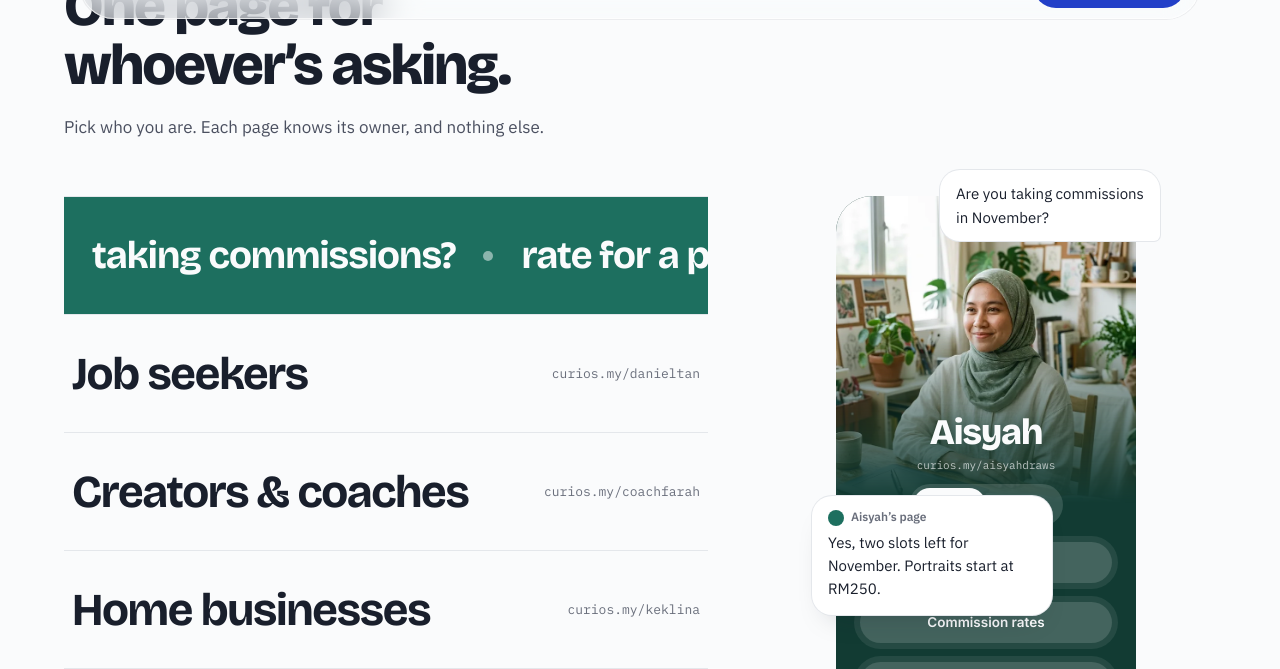
Test: who it is for › shows the page of the kind of owner pointed at
This screenshot has width=1280, height=669.
(page scrolled)
Hover over the button "Job seekers" at (190, 374), box [64,314,708,432]
(page scrolled)
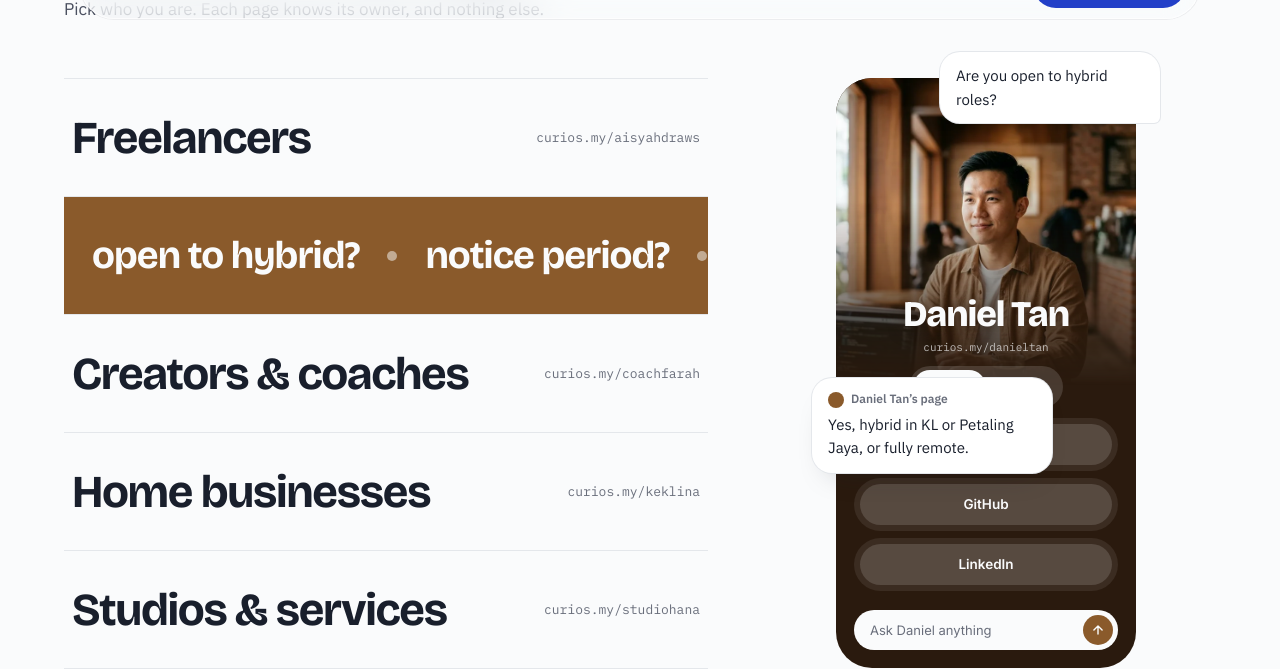
Now the element named "Daniel Tan’s Curios page" shows "Yes, hybrid in KL or Petaling Jaya, or fully remote.", box [828,415,1014,457]
